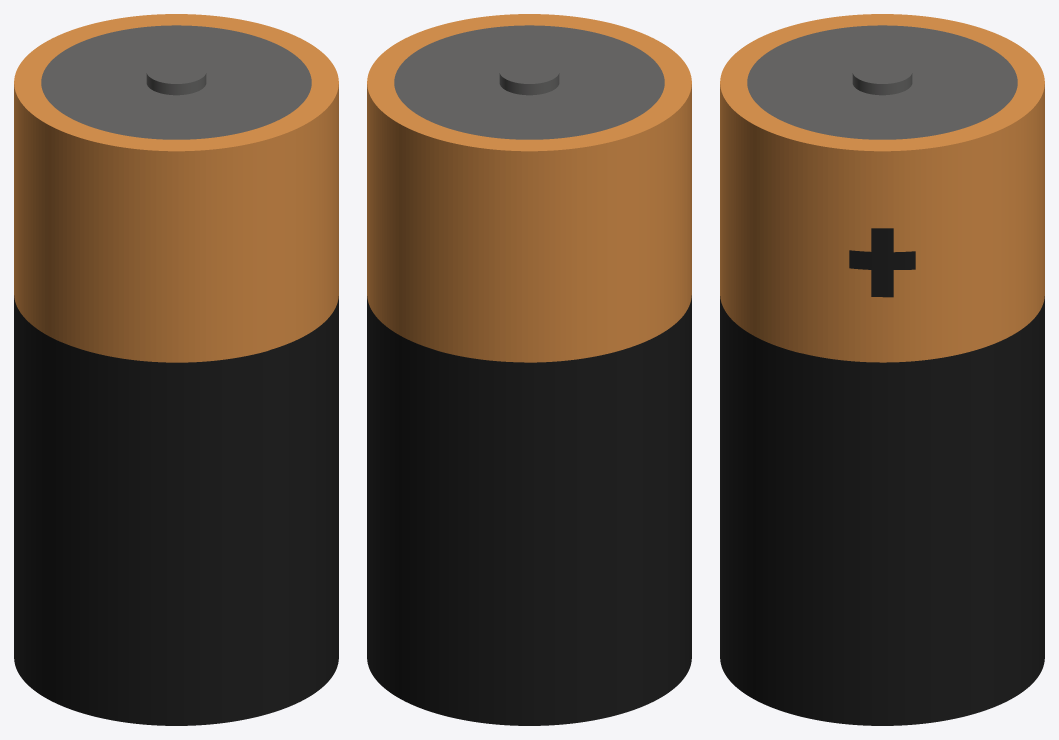
Rendered from battery.fbx.
3 views of the same model, side by side, from view 1: azimuth 30°, elevation 25°; view 2: azimuth 150°, elevation 25°; view 3: azimuth 270°, elevation 25° (orthographic).
Parts seen in each view (by area): view 1: battery; view 2: battery; view 3: battery.
Part boxes in pixels (x1,y1,x2,y2): battery: (14,14,338,725); battery: (367,14,691,725); battery: (720,14,1044,725).
Size of the model in its own units: 21.26 by 42.31 by 21.26.
